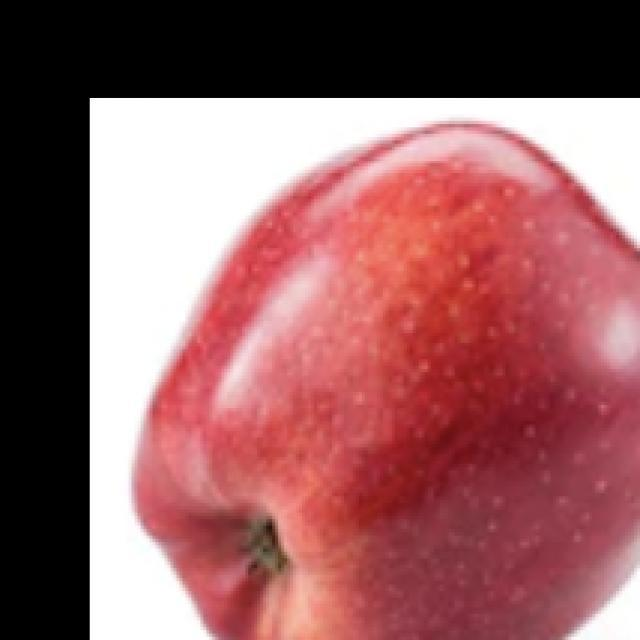Fresh Apple: (151, 141, 640, 640)
